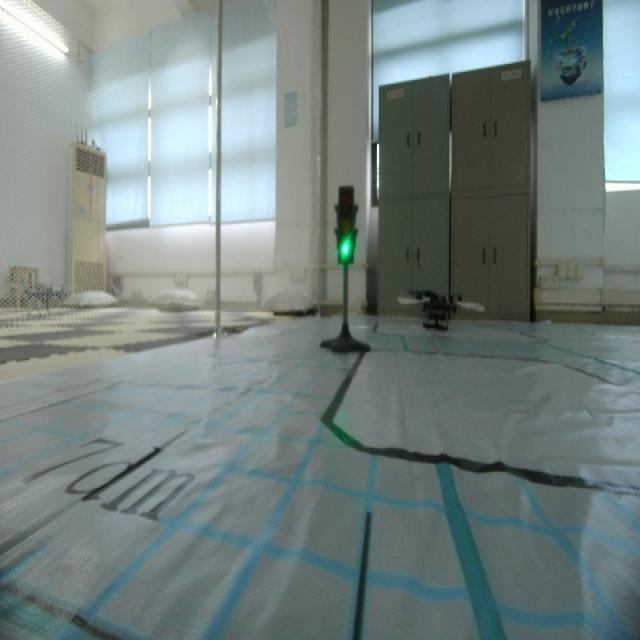green: (327, 178, 361, 268)
